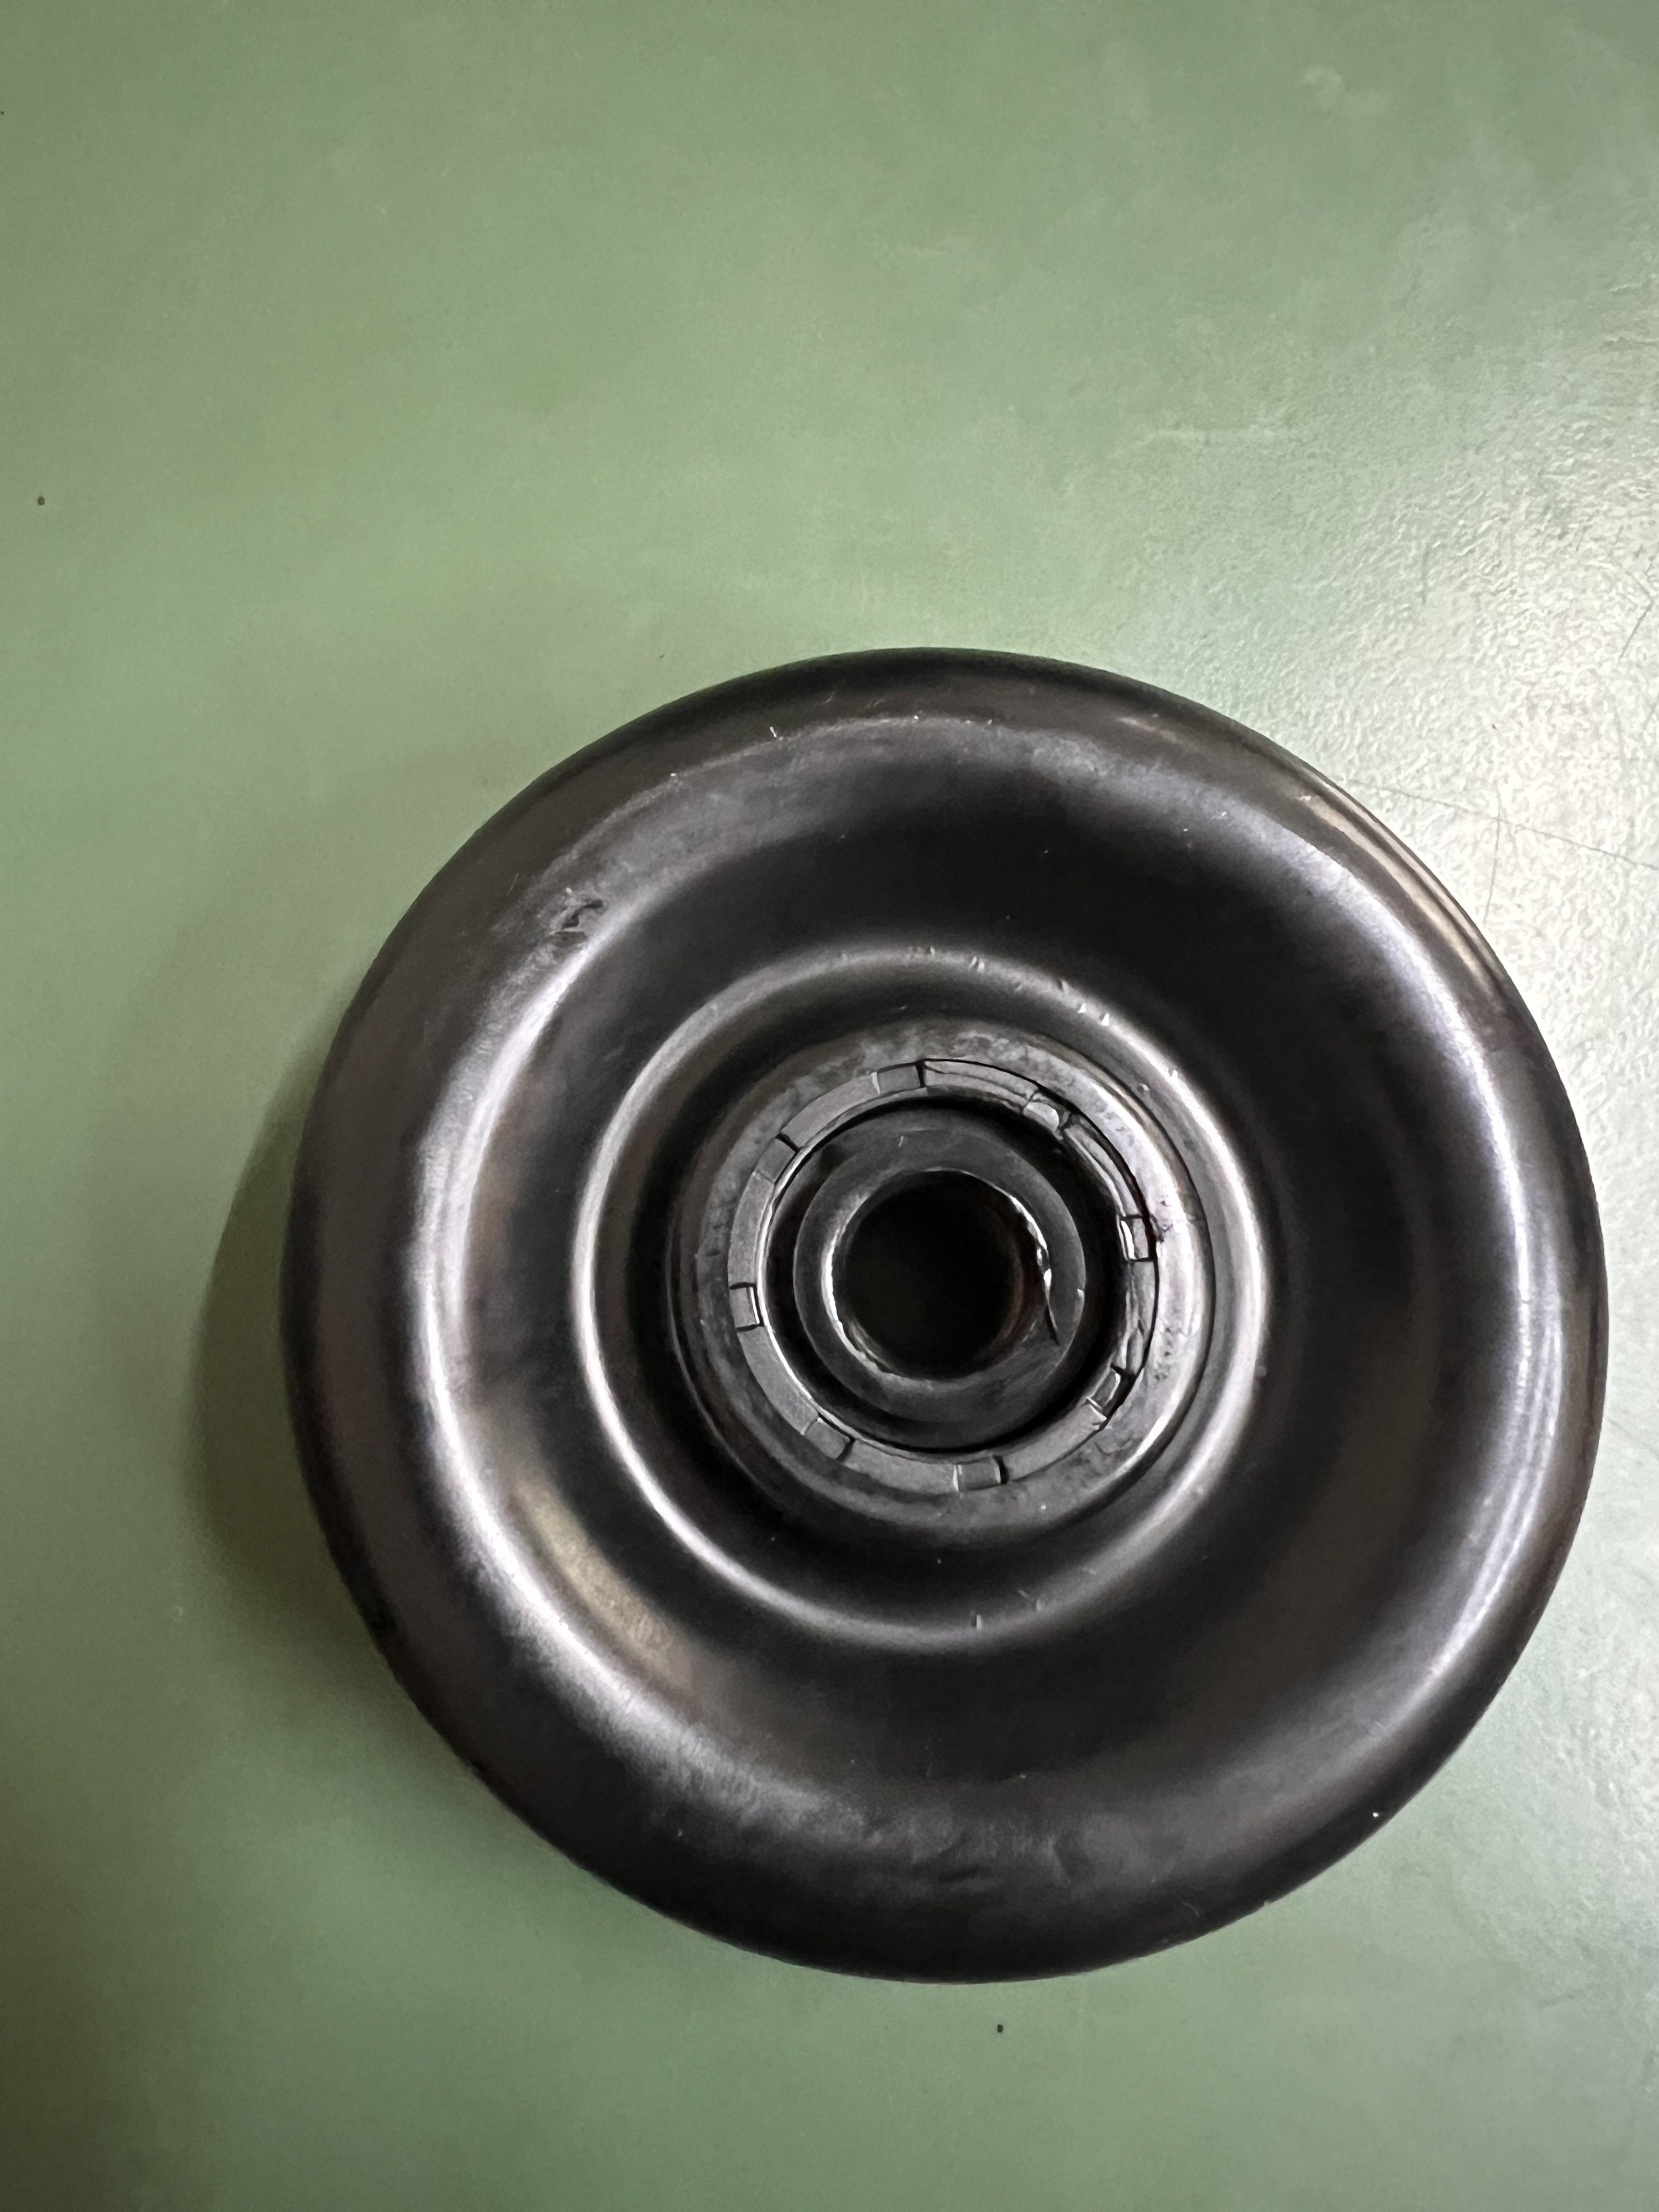lever: (246, 658, 1612, 1982)
